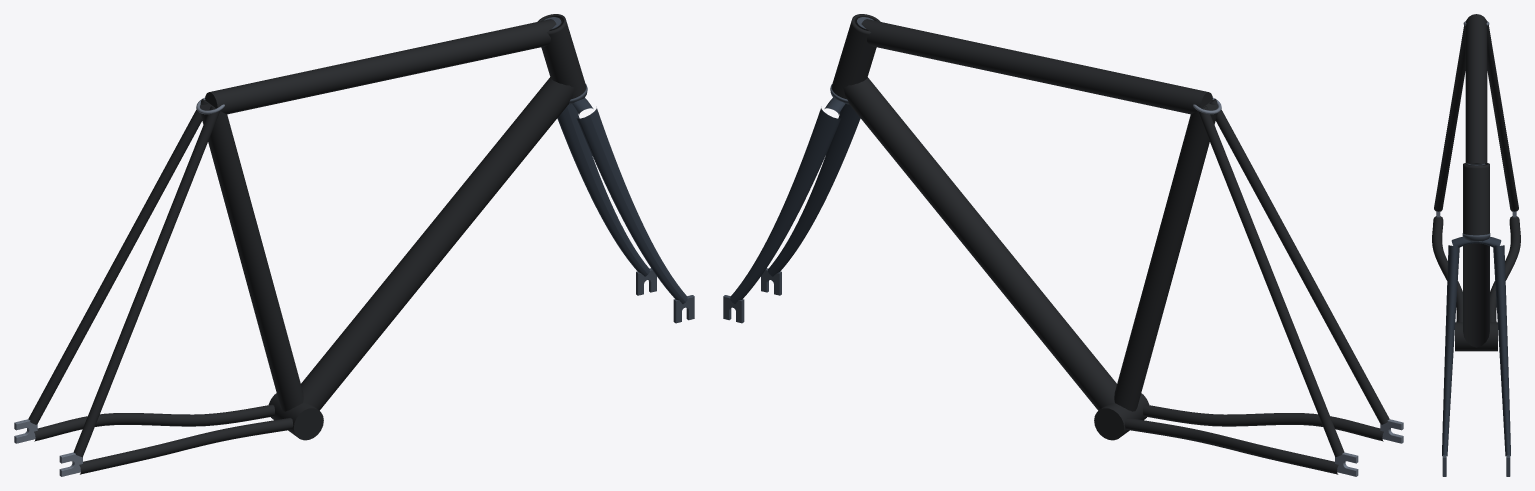
The model's file is dosnoventa-02-la-s.glb.
3 views of the same model, side by side, from view 1: azimuth 30°, elevation 25°; view 2: azimuth 150°, elevation 25°; view 3: azimuth 270°, elevation 25° (orthographic). The views are drawn at different scales.
Parts seen in each view (by area): view 1: paint_down, paint_top, paint_seat, paint_seatstay_1, paint_seatstay_-1, fork_blade_1, fork_blade_-1, paint_chainstay_-1, paint_chainstay_1, paint_head, paint_bottom_bracket; view 2: paint_down, paint_top, paint_seat, paint_seatstay_-1, paint_seatstay_1, fork_blade_-1, fork_blade_1, paint_chainstay_1, paint_chainstay_-1, paint_head, paint_bottom_bracket; view 3: paint_top, paint_down, fork_blade_-1, fork_blade_1, paint_head, paint_seatstay_-1, paint_seatstay_1, paint_chainstay_-1, paint_chainstay_1, paint_bottom_bracket, fork_crown, fork_headset_lower.
Part boxes in pixels (box(x1,y1,x2,y2)): paint_down: box(301, 77, 575, 410); paint_top: box(205, 19, 556, 114); paint_seat: box(200, 102, 303, 411); paint_seatstay_1: box(74, 106, 220, 457); paint_seatstay_-1: box(28, 98, 208, 424); fork_blade_1: box(576, 108, 687, 303); fork_blade_-1: box(557, 104, 649, 276); paint_chainstay_-1: box(34, 404, 274, 441); paint_chainstay_1: box(79, 418, 293, 474); paint_head: box(537, 14, 586, 98); paint_bottom_bracket: box(268, 393, 323, 440); paint_down: box(842, 77, 1116, 410); paint_top: box(861, 19, 1212, 114); paint_seat: box(1114, 102, 1217, 411); paint_seatstay_-1: box(1198, 106, 1344, 457); paint_seatstay_1: box(1209, 98, 1389, 424); fork_blade_-1: box(730, 108, 841, 303); fork_blade_1: box(768, 104, 860, 276); paint_chainstay_1: box(1143, 404, 1383, 441); paint_chainstay_-1: box(1124, 418, 1338, 474); paint_head: box(831, 14, 880, 99); paint_bottom_bracket: box(1094, 393, 1149, 440); paint_top: box(1465, 14, 1487, 164); paint_down: box(1463, 243, 1489, 347); fork_blade_-1: box(1493, 245, 1510, 456); fork_blade_1: box(1442, 245, 1459, 456); paint_head: box(1463, 162, 1489, 235); paint_seatstay_-1: box(1486, 21, 1518, 211); paint_seatstay_1: box(1434, 21, 1466, 211); paint_chainstay_-1: box(1490, 216, 1520, 322); paint_chainstay_1: box(1432, 216, 1462, 322); paint_bottom_bracket: box(1455, 322, 1497, 351); fork_crown: box(1451, 236, 1501, 247); fork_headset_lower: box(1462, 233, 1490, 241).
Bounding box in the file's own units: 0.9731 × 0.523 × 0.1399.
